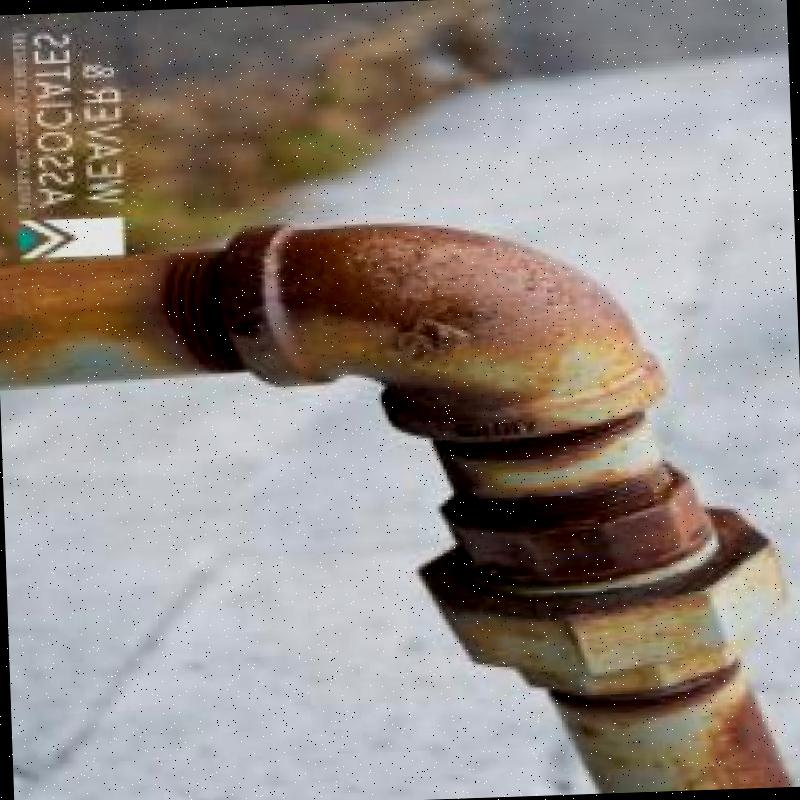corrosion: (161, 150, 716, 558), (702, 681, 800, 789)
